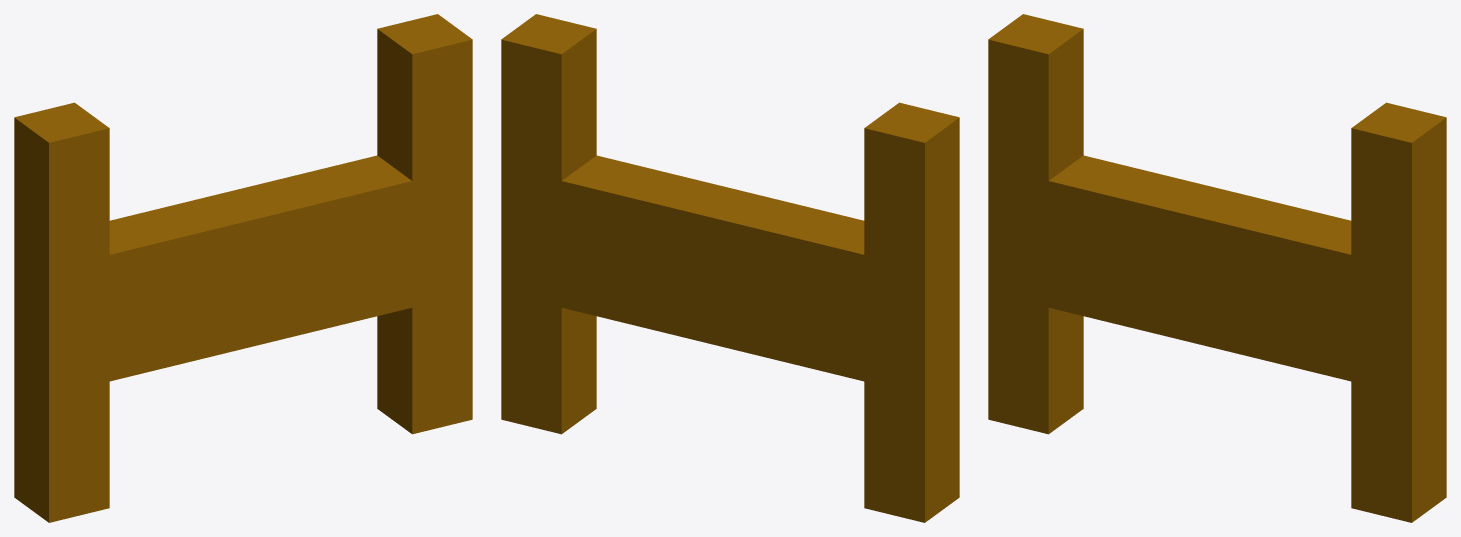
The model's file is woodFence.gltf.
3 views of the same model, side by side, from view 1: azimuth 30°, elevation 25°; view 2: azimuth 150°, elevation 25°; view 3: azimuth 330°, elevation 25° (orthographic).
Visible parts, largest first — view 1: Layer.1; view 2: Layer.1; view 3: Layer.1.
Boxes of the visible parts, left/top/right/bottom form: Layer.1: left=14, top=14, right=472, bottom=522; Layer.1: left=501, top=14, right=959, bottom=522; Layer.1: left=988, top=14, right=1446, bottom=522.
Size of the model in its own units: 7 by 6 by 1.
1 material, 1 textured.
